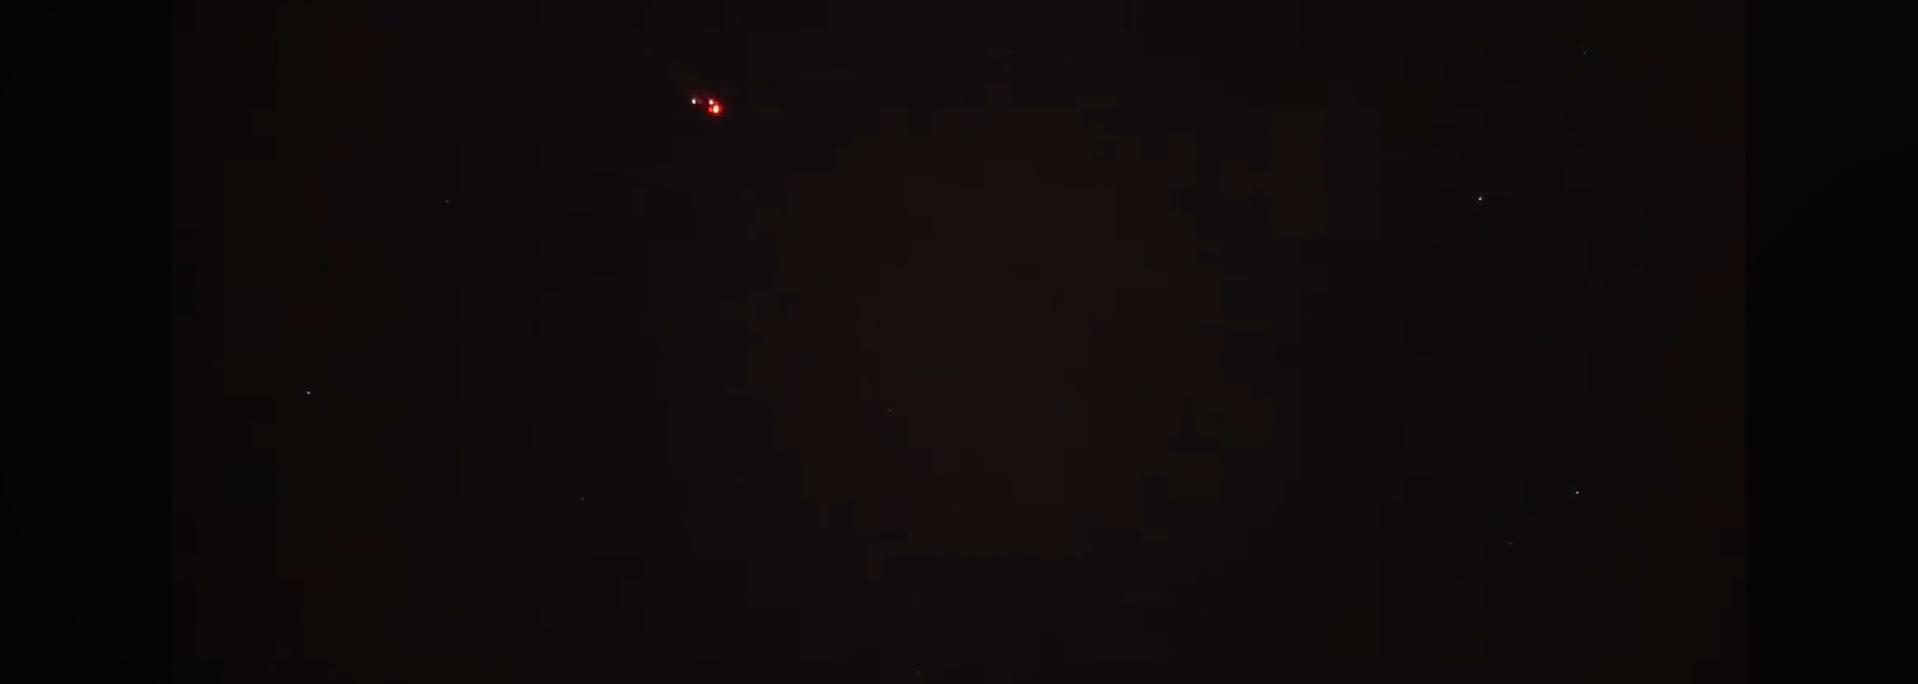Plane: (661, 80, 762, 135)
